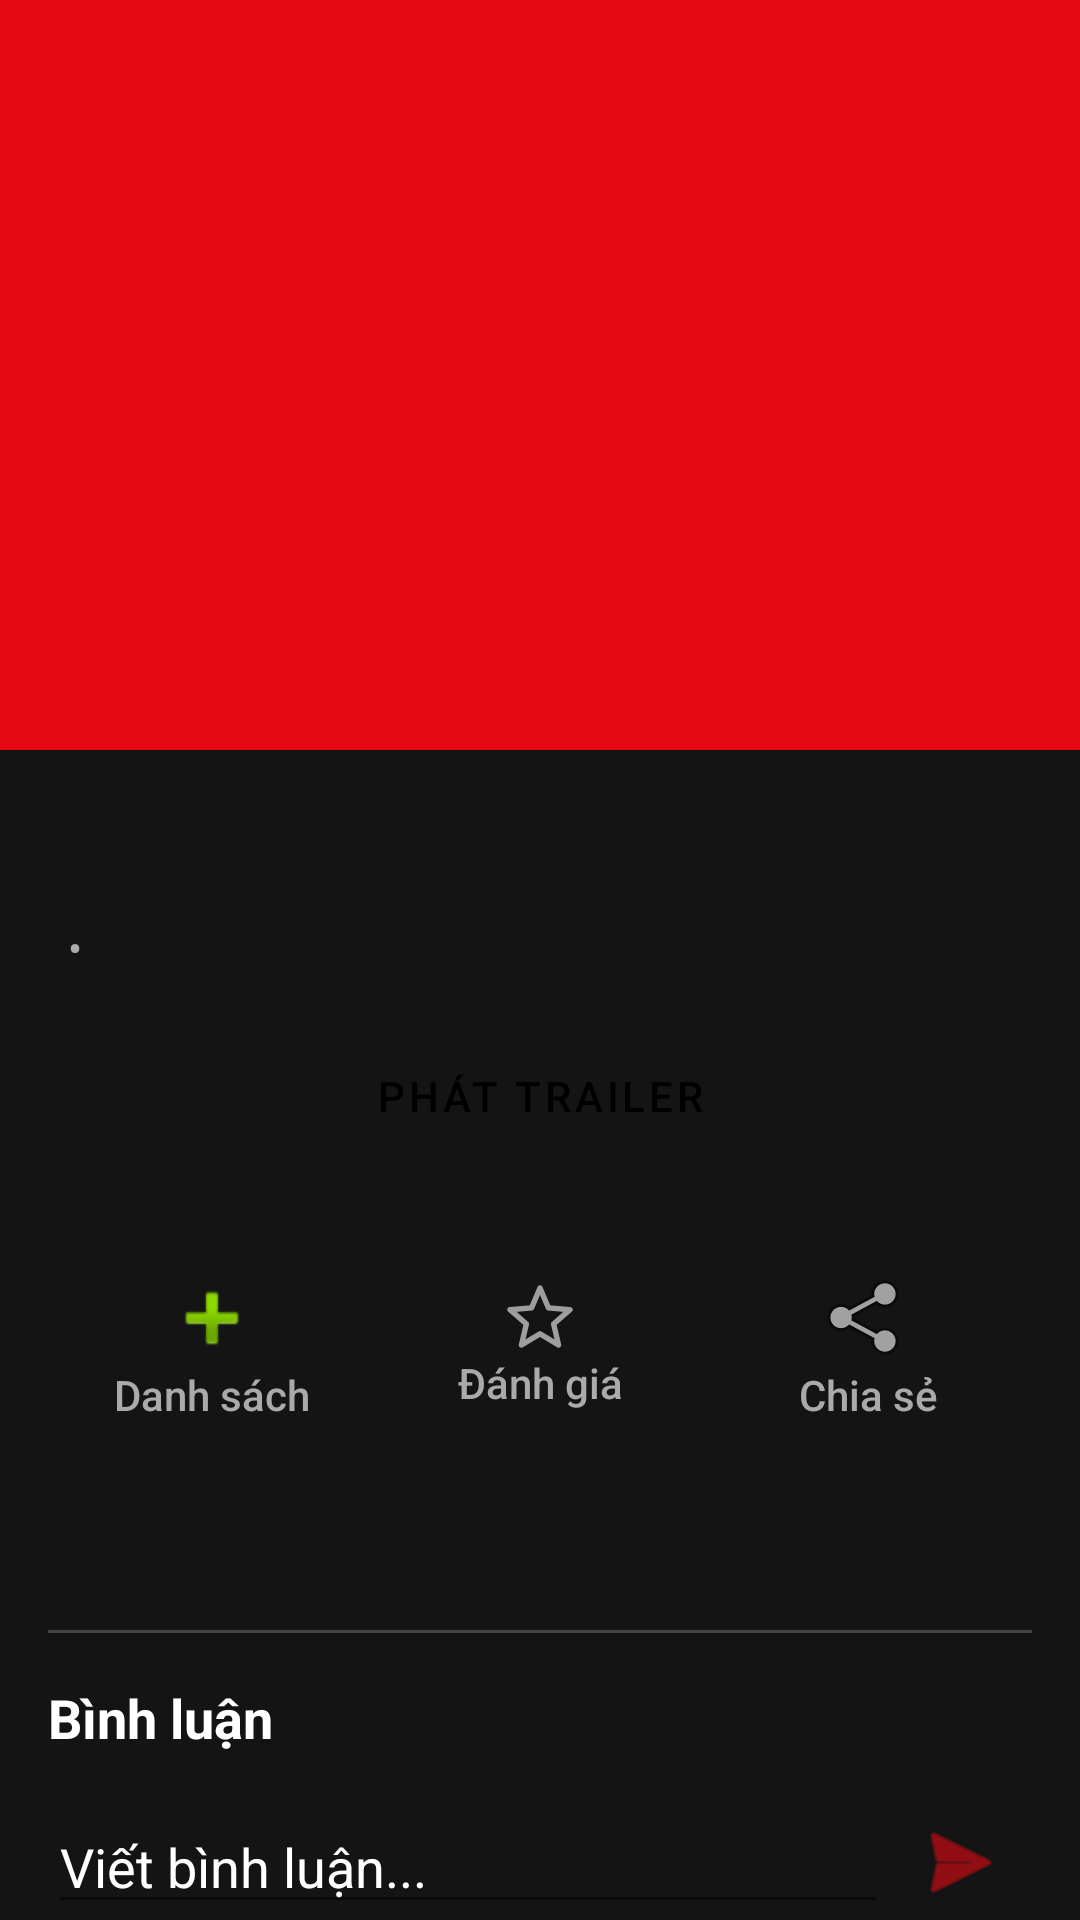

Named icons in this screenshot (1080px x 1920px) and their centers, point (x, y):
send: point (961, 1862)
